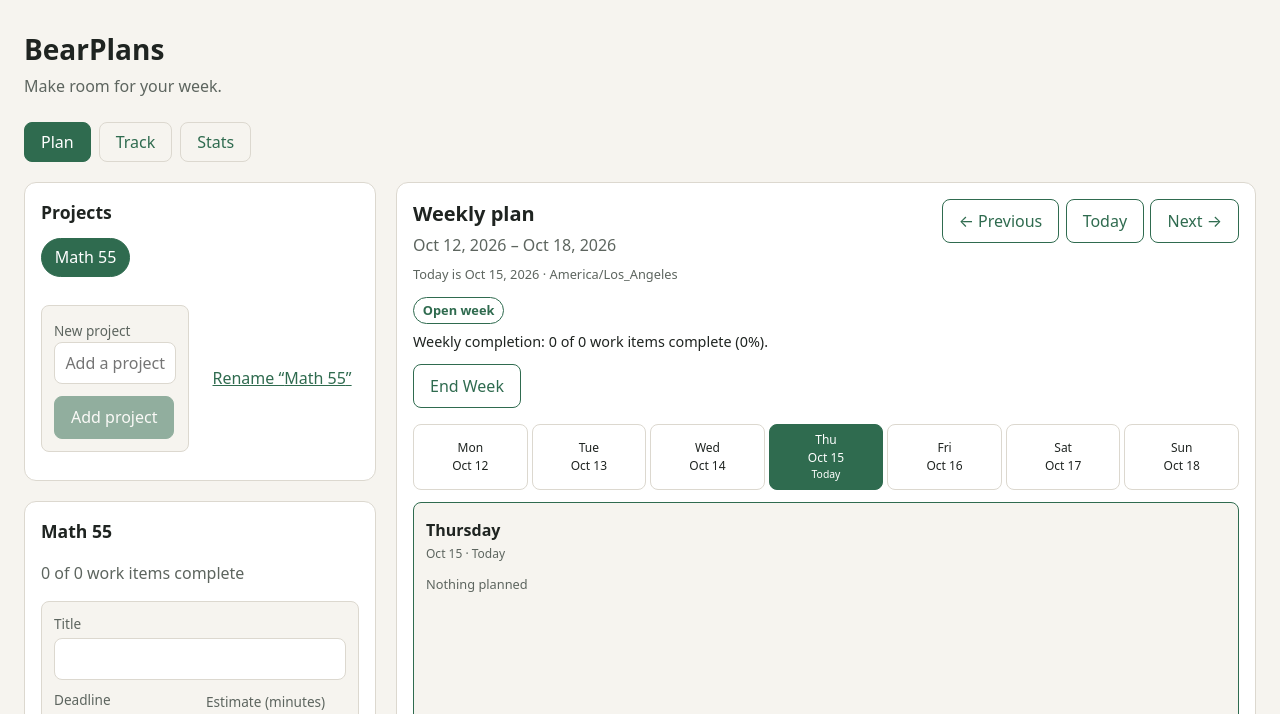
Test: adding a project selects it
Check: the button "Math 55" is shown, box [41,238,130,277]
Type "CS 61A" into the field labelled "New project" at [115, 362], box [54,342,176,384]
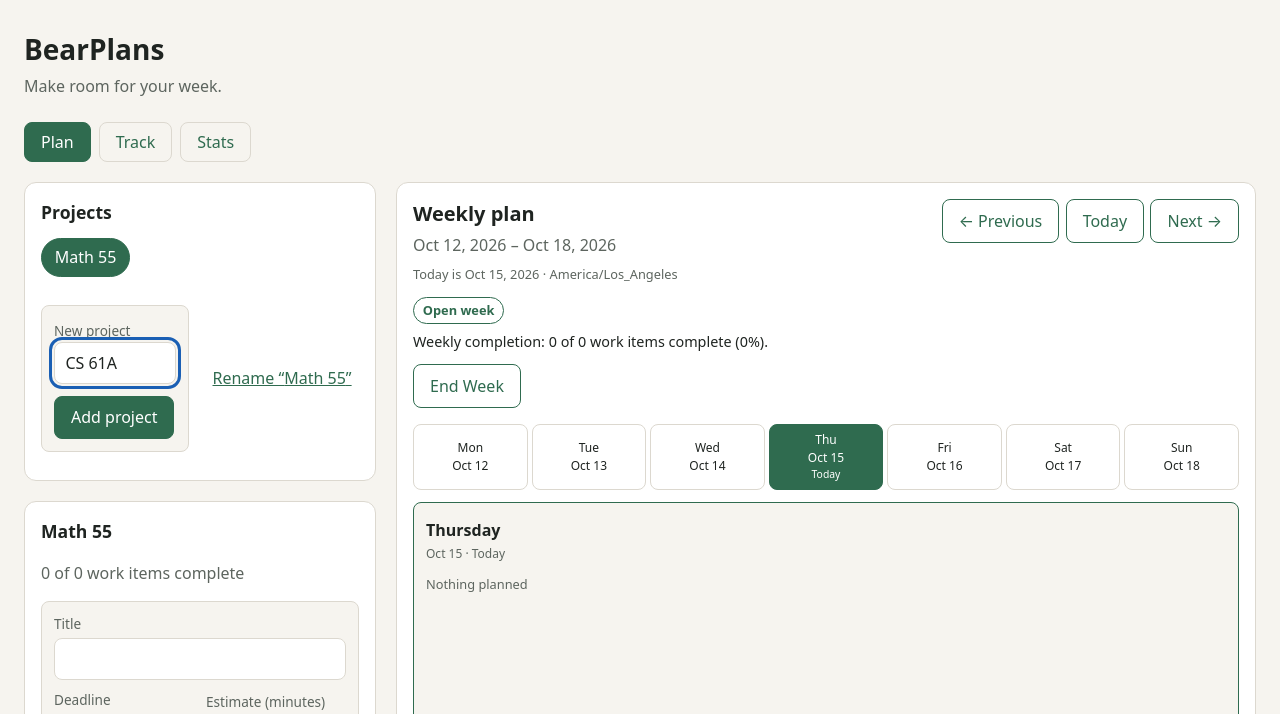
Click the button "Add project" at [114, 417], box [54,396,174,439]
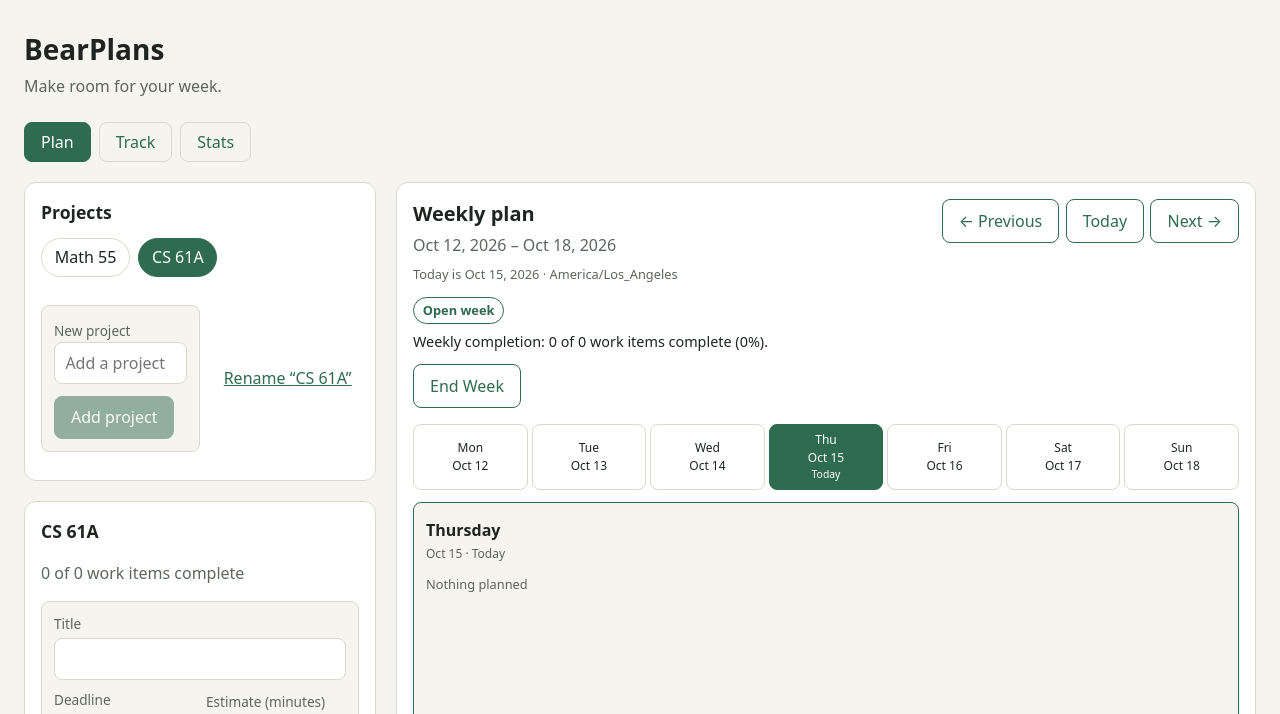
Check: the button "CS 61A" is shown, box [138,238,217,277]
